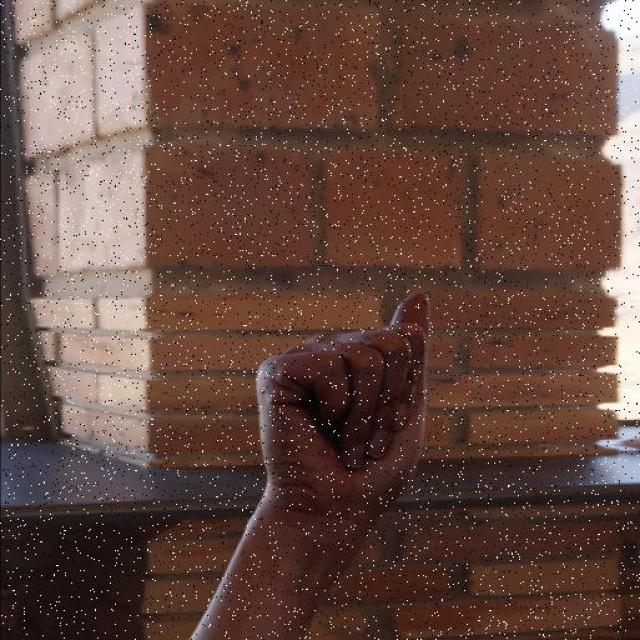A: (254, 290, 433, 520)
